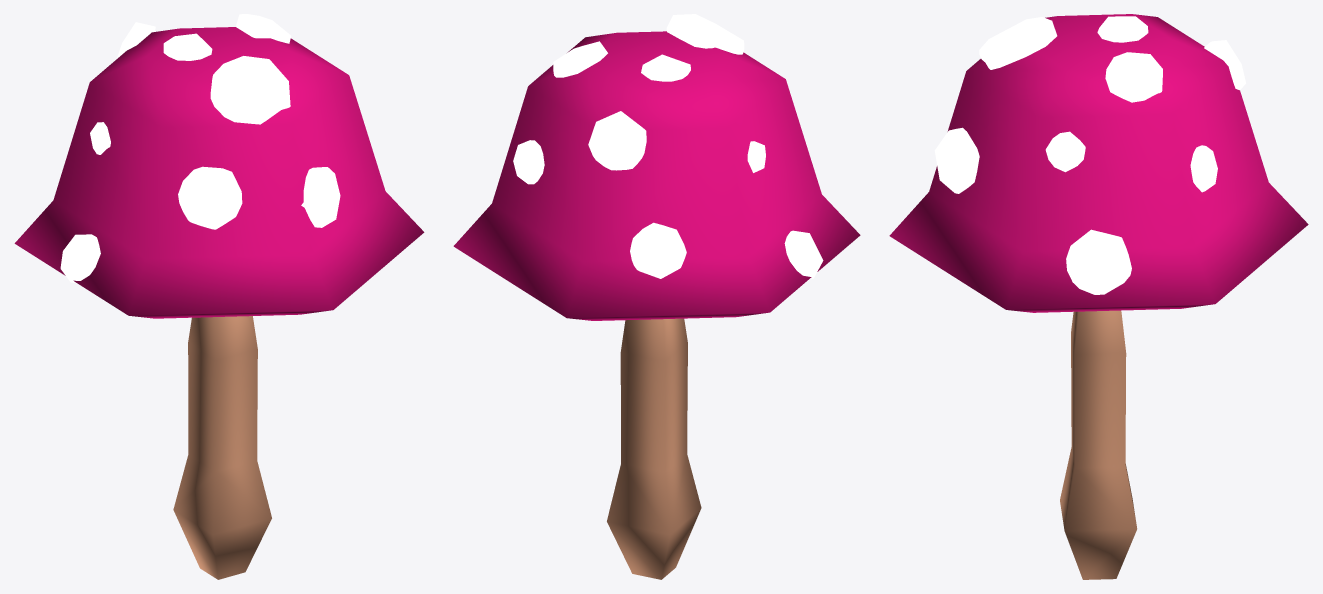
File: PinkMushroom.fbx
3 views of the same model, side by side, from view 1: azimuth 30°, elevation 25°; view 2: azimuth 150°, elevation 25°; view 3: azimuth 270°, elevation 25° (orthographic). The views are drawn at different scales.
Parts seen in each view (by area): view 1: PinkMushroom; view 2: PinkMushroom; view 3: PinkMushroom.
Part boxes in pixels (x1,y1,x2,y2): PinkMushroom: (14,14,424,579); PinkMushroom: (453,14,860,579); PinkMushroom: (889,14,1308,579).
Bounding box in the file's own units: 63.3 × 101 × 70.46.
